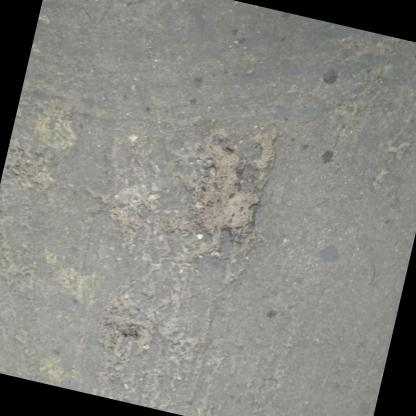pothole: (171, 119, 283, 250), (105, 315, 144, 342)
